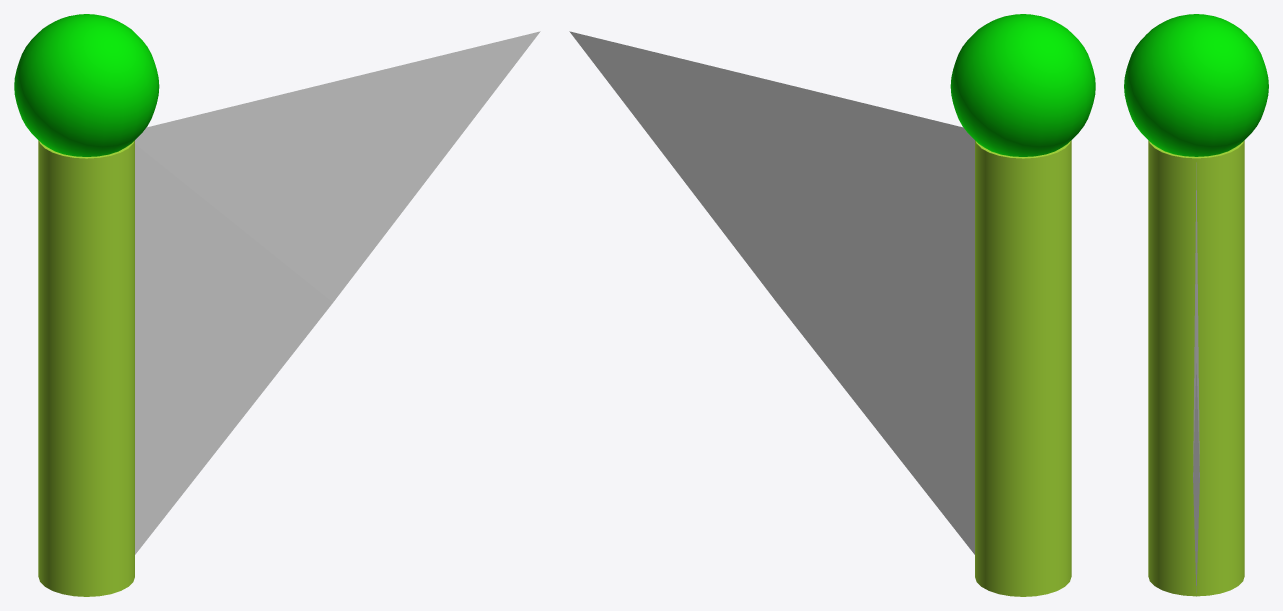
The model's file is Flag_Edge.fbx.
3 renders of one model, left to right at view 1: azimuth 30°, elevation 25°; view 2: azimuth 150°, elevation 25°; view 3: azimuth 270°, elevation 25°, orthographic.
Visible parts, largest first — view 1: pPyramid2; view 2: pPyramid2; view 3: pPyramid2.
Part boxes in pixels (x1=…): pPyramid2: x1=14, y1=14, x2=540, y2=596; pPyramid2: x1=569, y1=14, x2=1095, y2=596; pPyramid2: x1=1124, y1=14, x2=1268, y2=596.
Size of the model in its own units: 1.23 by 1.28 by 0.3.
